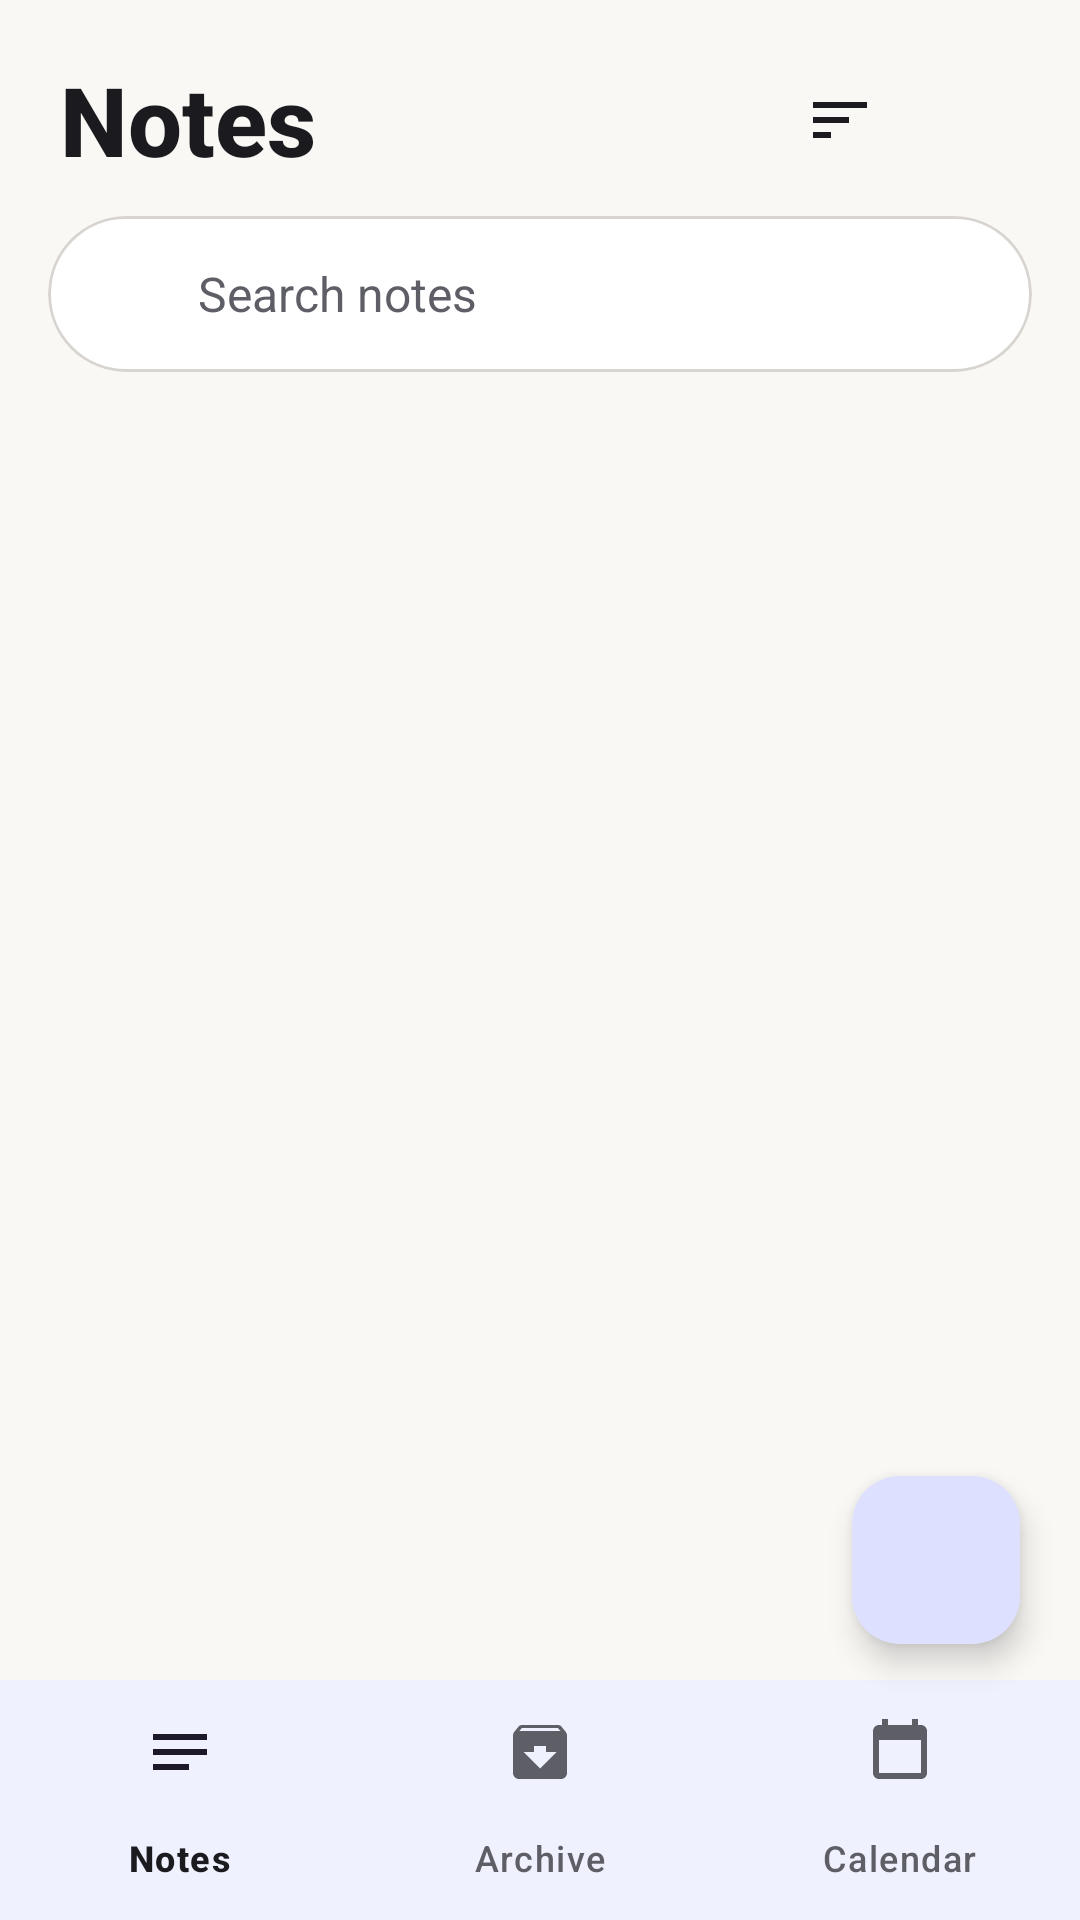

Point at icon controls on the screen. Image size 1080×1920, points as point (x, y).
Sort and view: point (840, 120)
